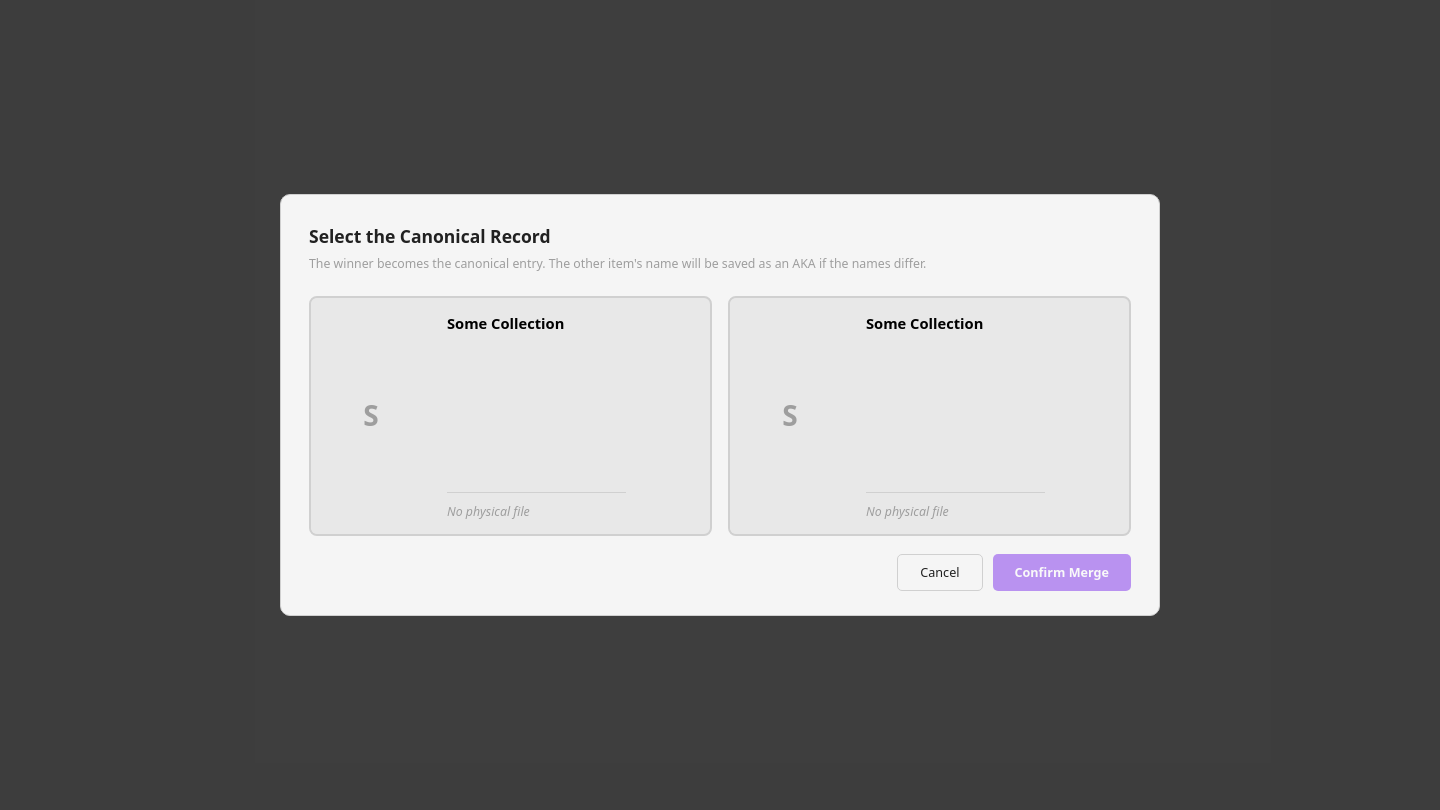
Test: MergeModal › tells the user why a merge was refused instead of a generic failure
Click the 1st button "S Some Collection No physical file".
click(371, 416)  # box [309, 296, 712, 536]
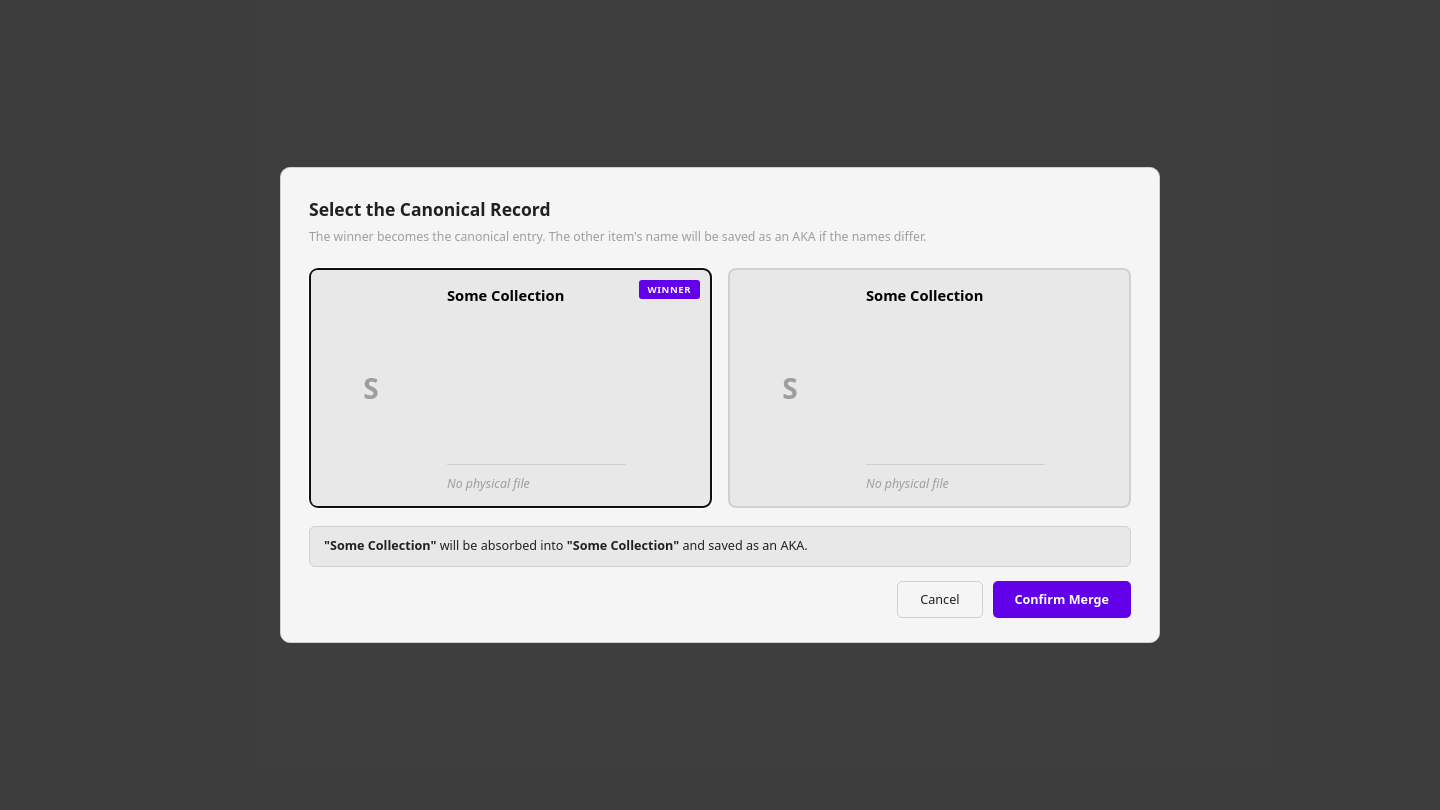
Click the button "Confirm Merge".
click(1062, 600)  # box [992, 581, 1131, 618]
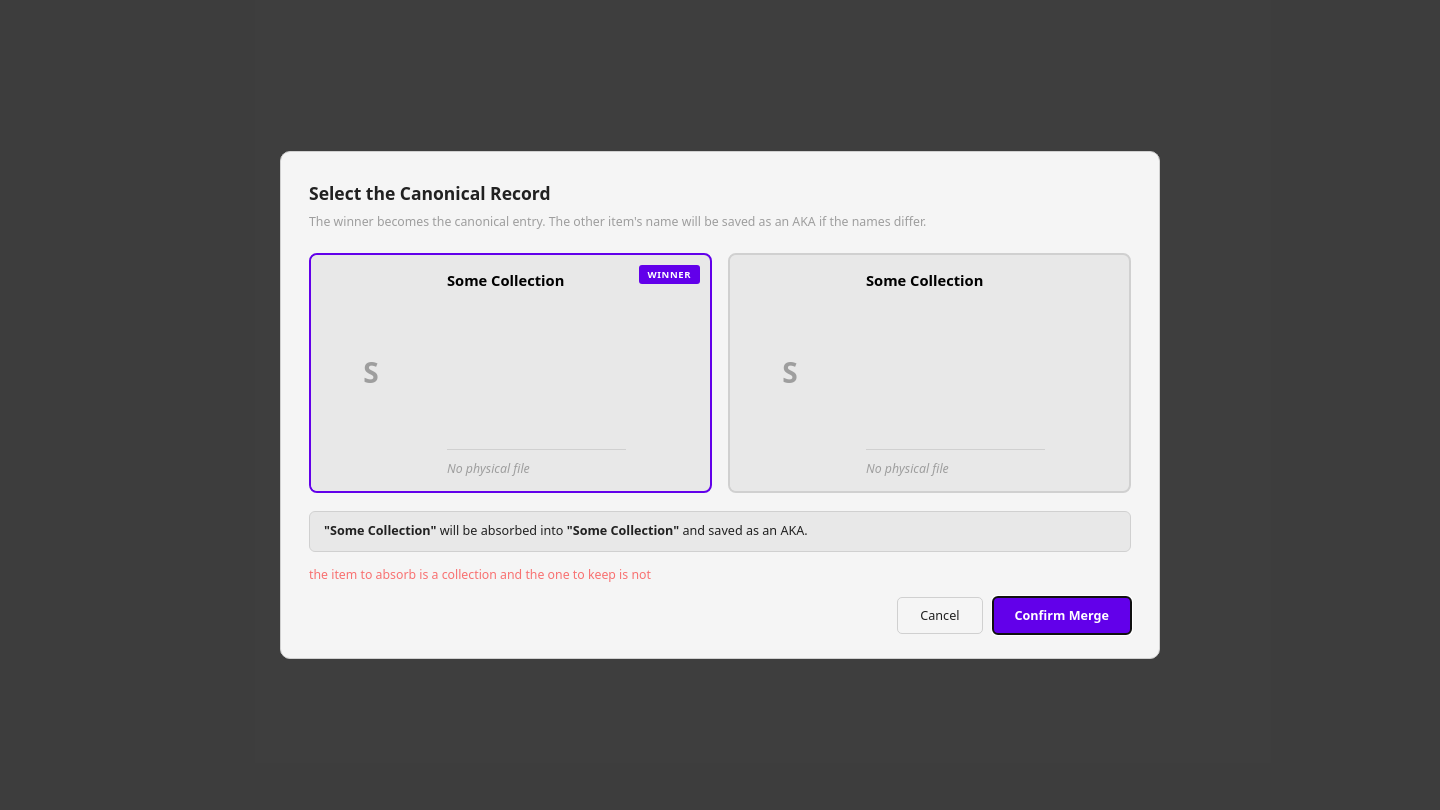
Expected: the text "the item to absorb is a collection" is shown, [309, 566, 651, 583]
